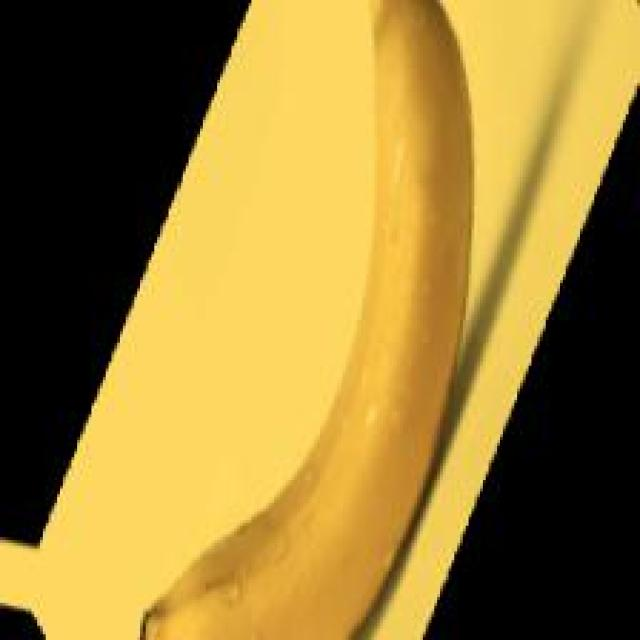bananas: (138, 0, 469, 634)
